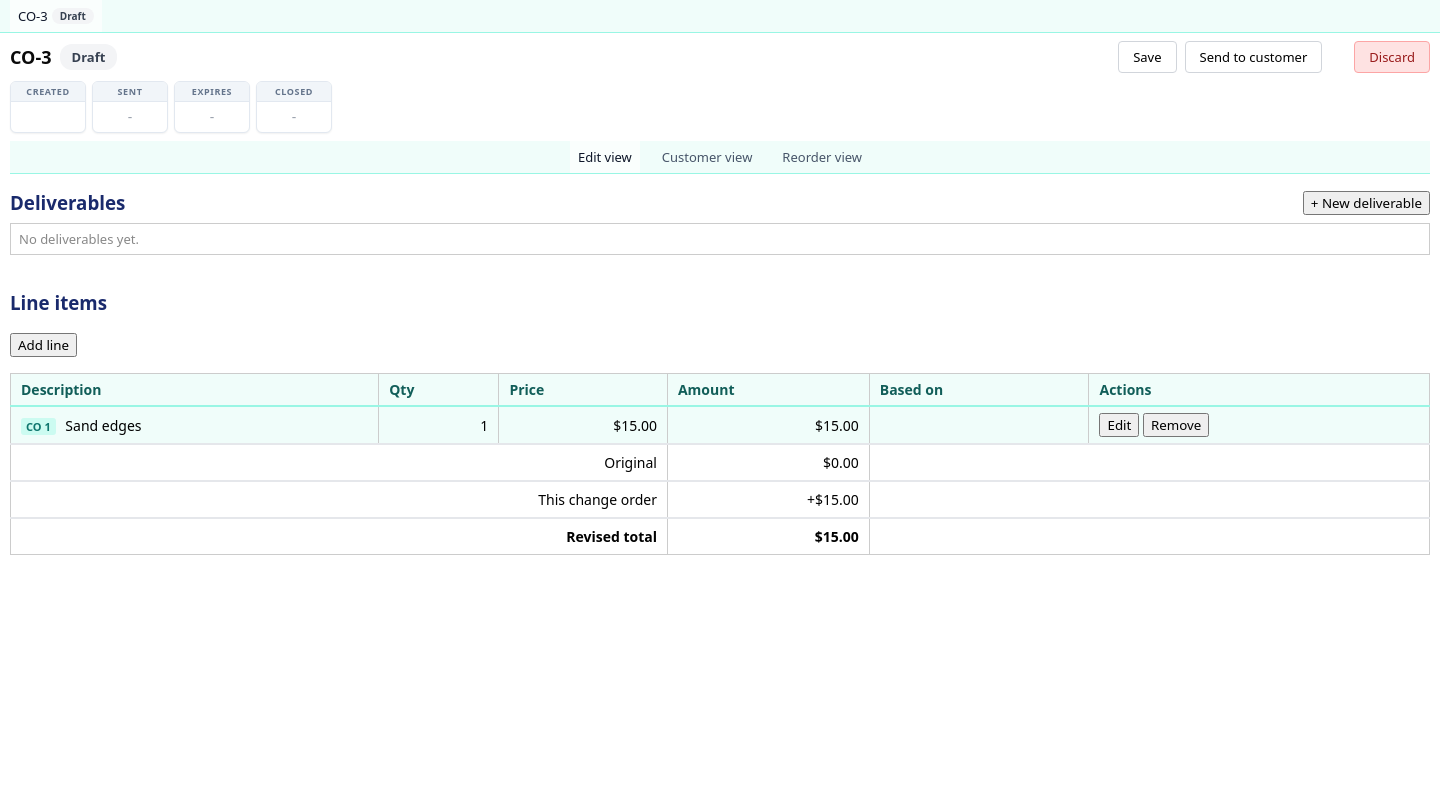
it: ChangeOrderPanel reorder mode › labels reorderable rows "CO {co_index} — {description}"
The width and height of the screenshot is (1440, 810).
Expected: the heading "Line items" is shown, [10,290,107,315]
Click the button "Reorder view". click: (822, 157)
box: [774,141,870,173]
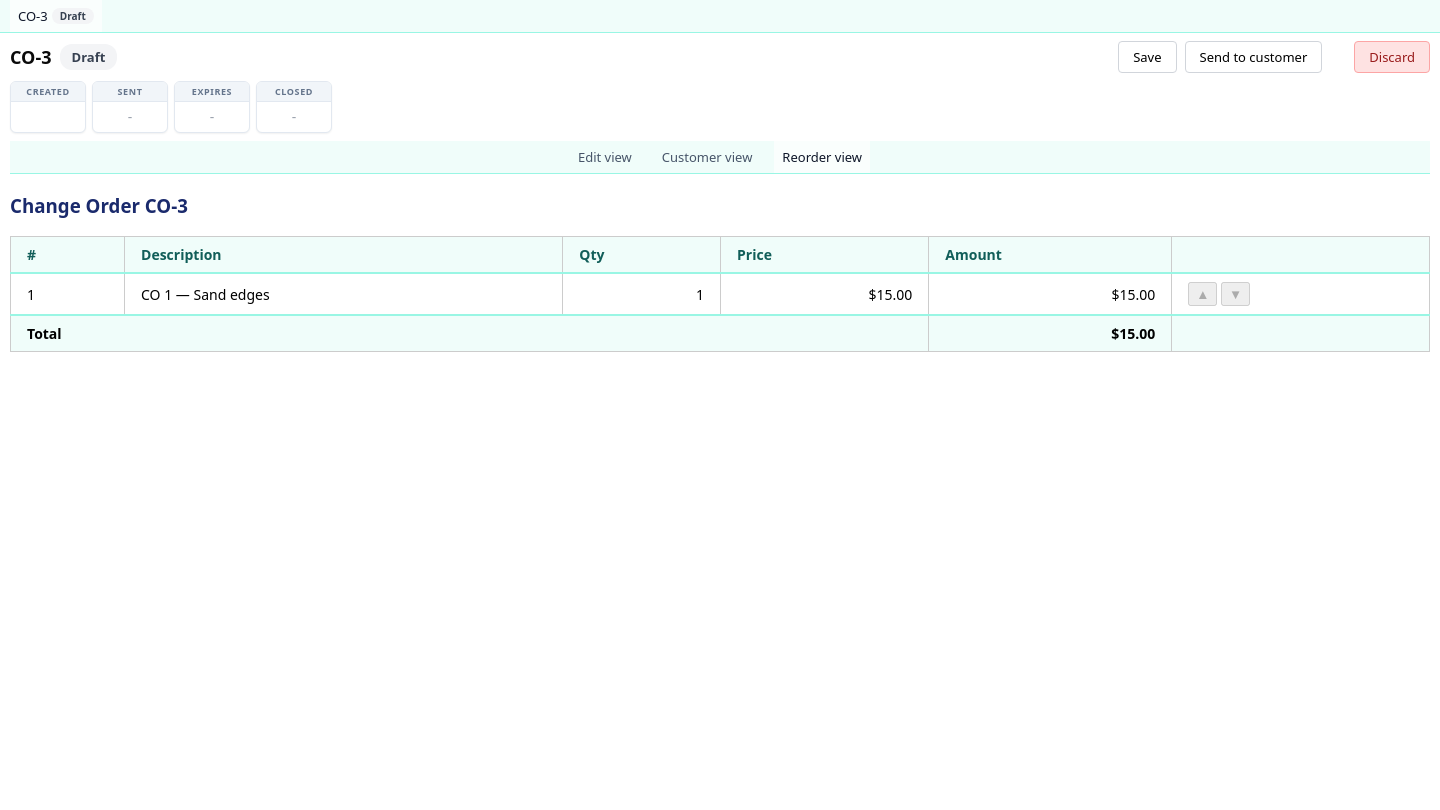
Expected: the text "CO 1 — Sand edges" is shown, [124,273,563,315]
